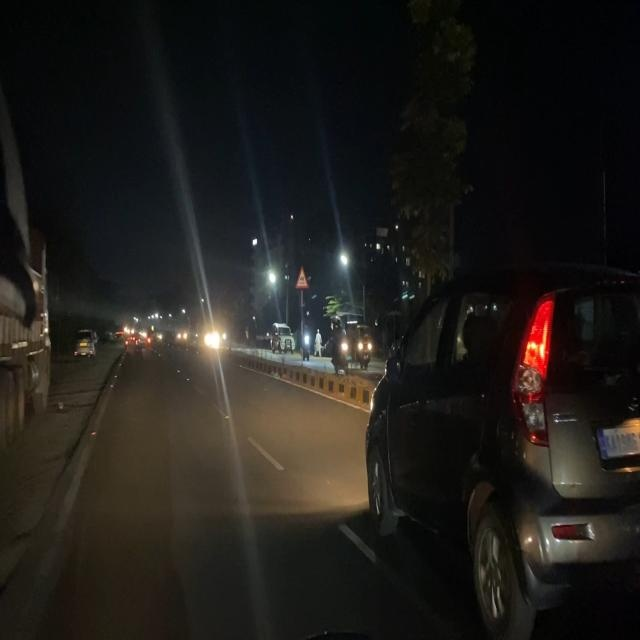bien_nguy_hiem: (295, 265, 309, 290)
